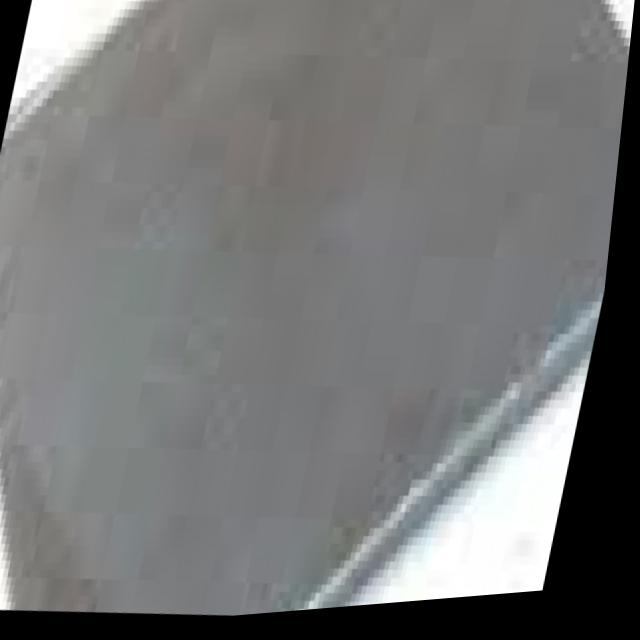metal-plates: (1, 1, 634, 622)
